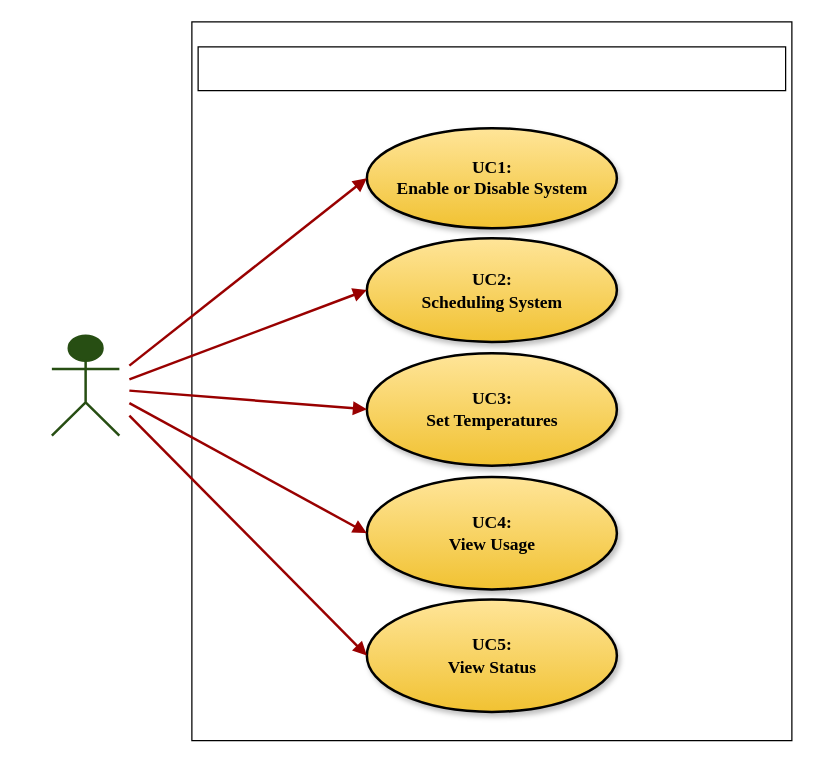
Some shapes in this 814 by 763 pixel diagram are drawn without their labels. Each missing label, with the centre of its shape:
"Garden Sprinker System" belongs at point 491,68.
"Homeowner" belongs at point 85,385.
